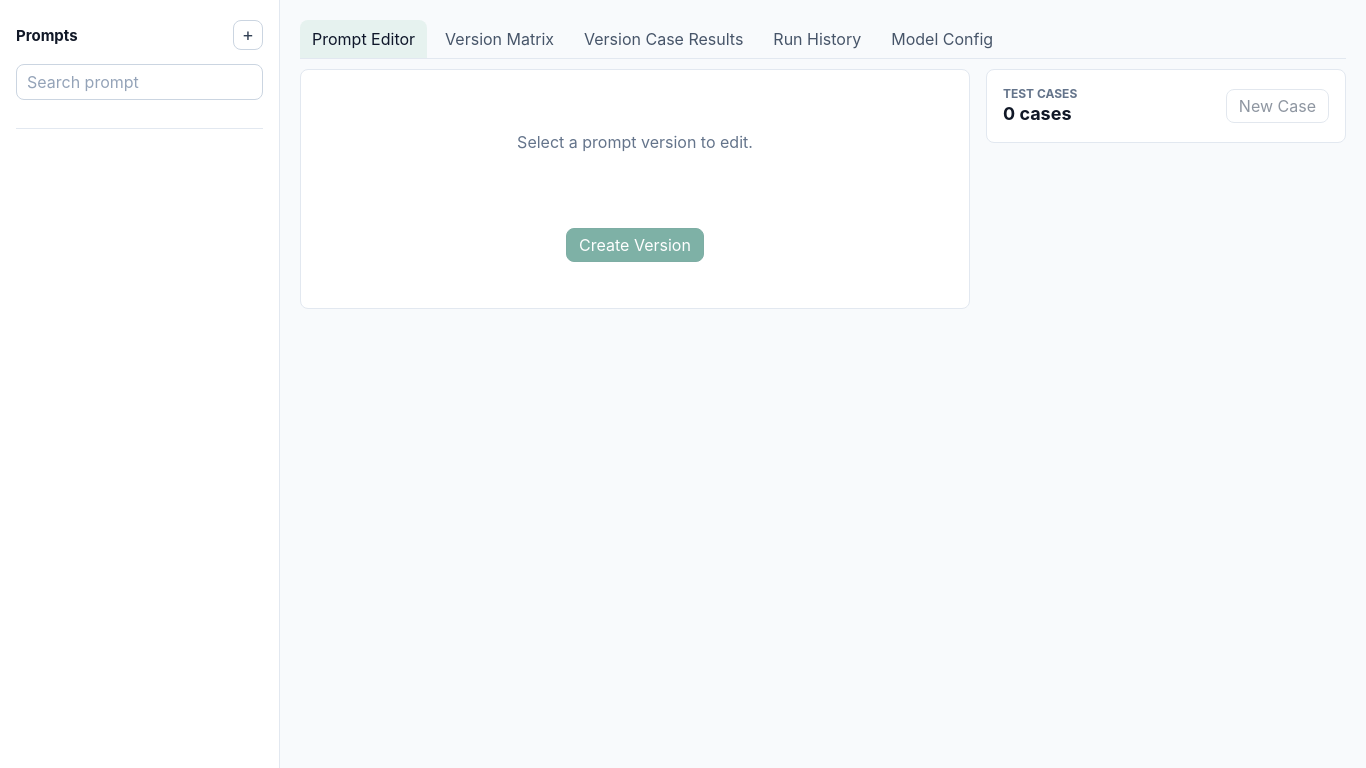
Test case: App prompt creation › creates a prompt from the in-app form
Click the button named "New prompt". click: (248, 35)
box: x1=233 y1=20 x2=263 y2=50
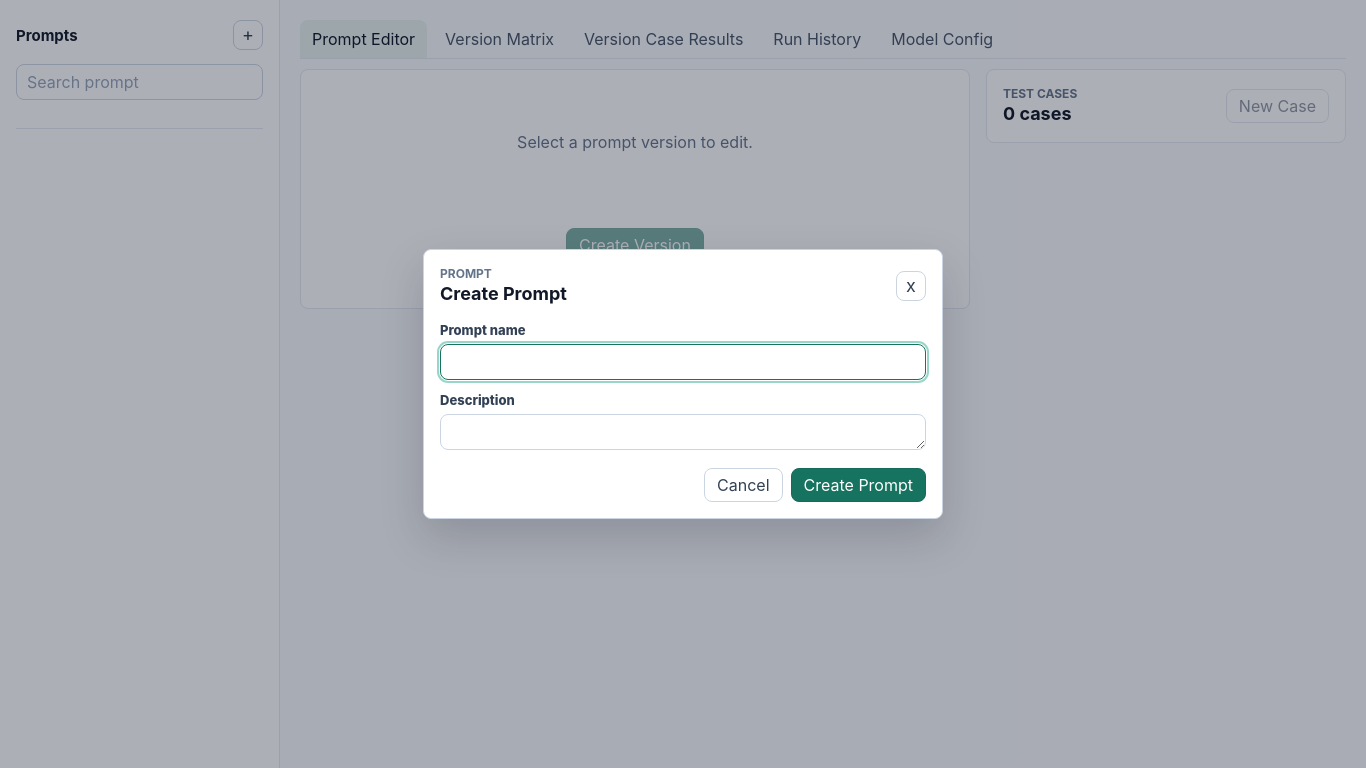
Type "Recall Prompt" into the field labelled "Prompt name". click: (683, 362)
box: x1=440 y1=344 x2=926 y2=380
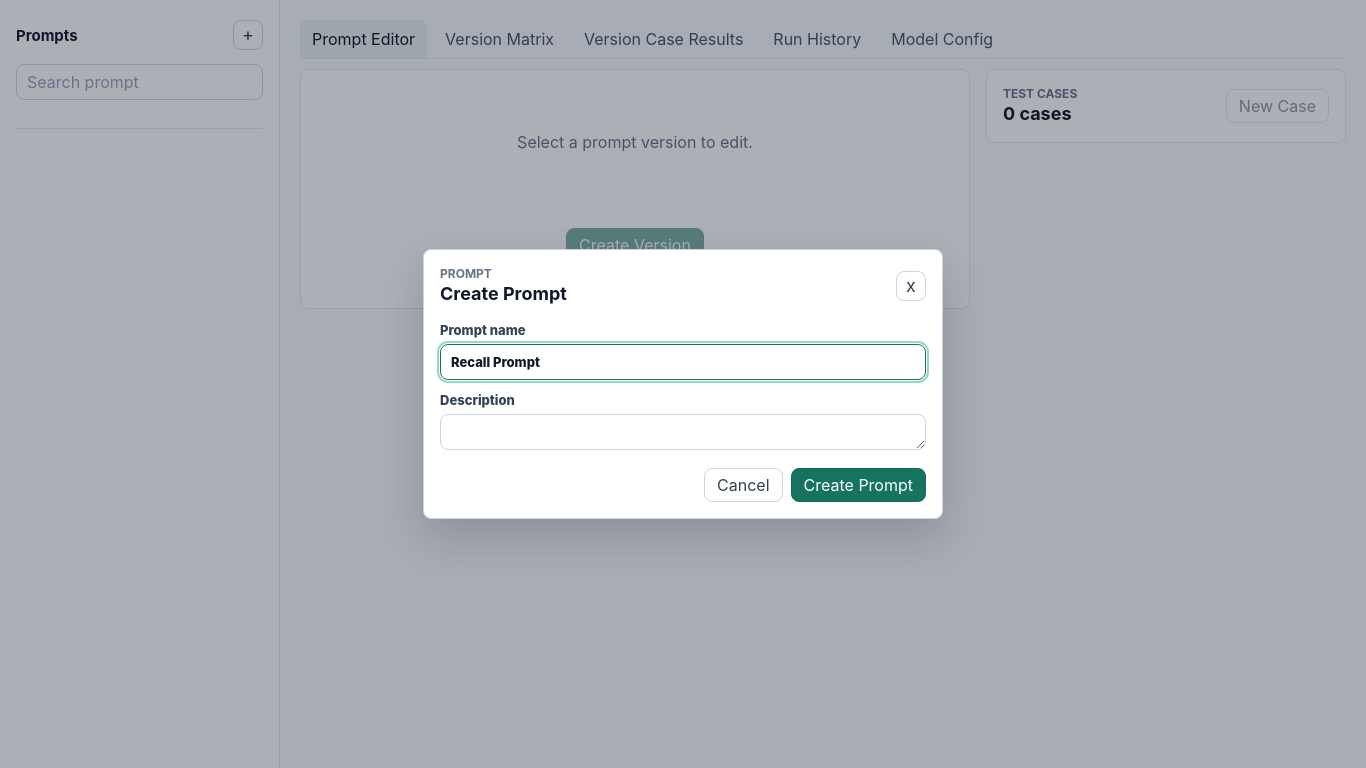
Type "Recall useful memories" into the text box labelled "Description". click: (683, 432)
box: x1=440 y1=414 x2=926 y2=450
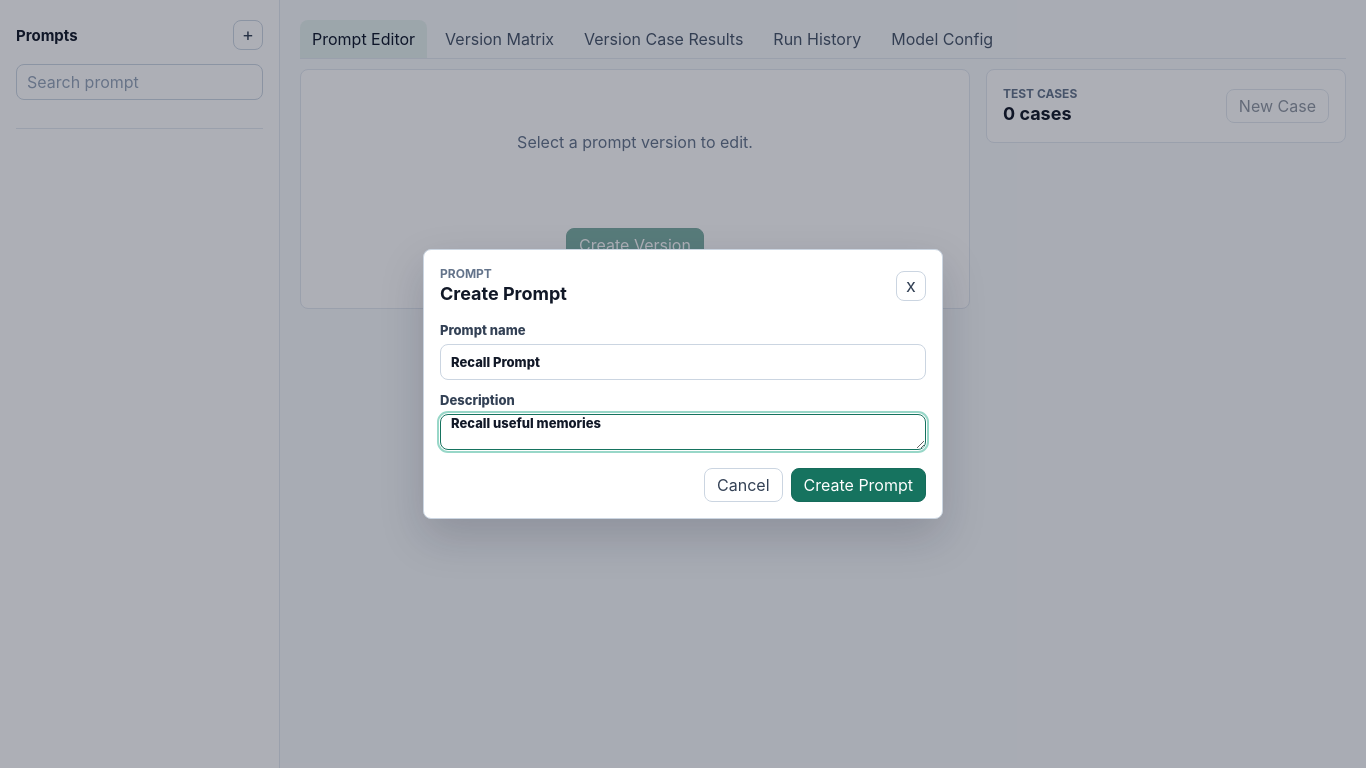
Click the button "Create Prompt". click: (858, 485)
box: x1=791 y1=468 x2=926 y2=502
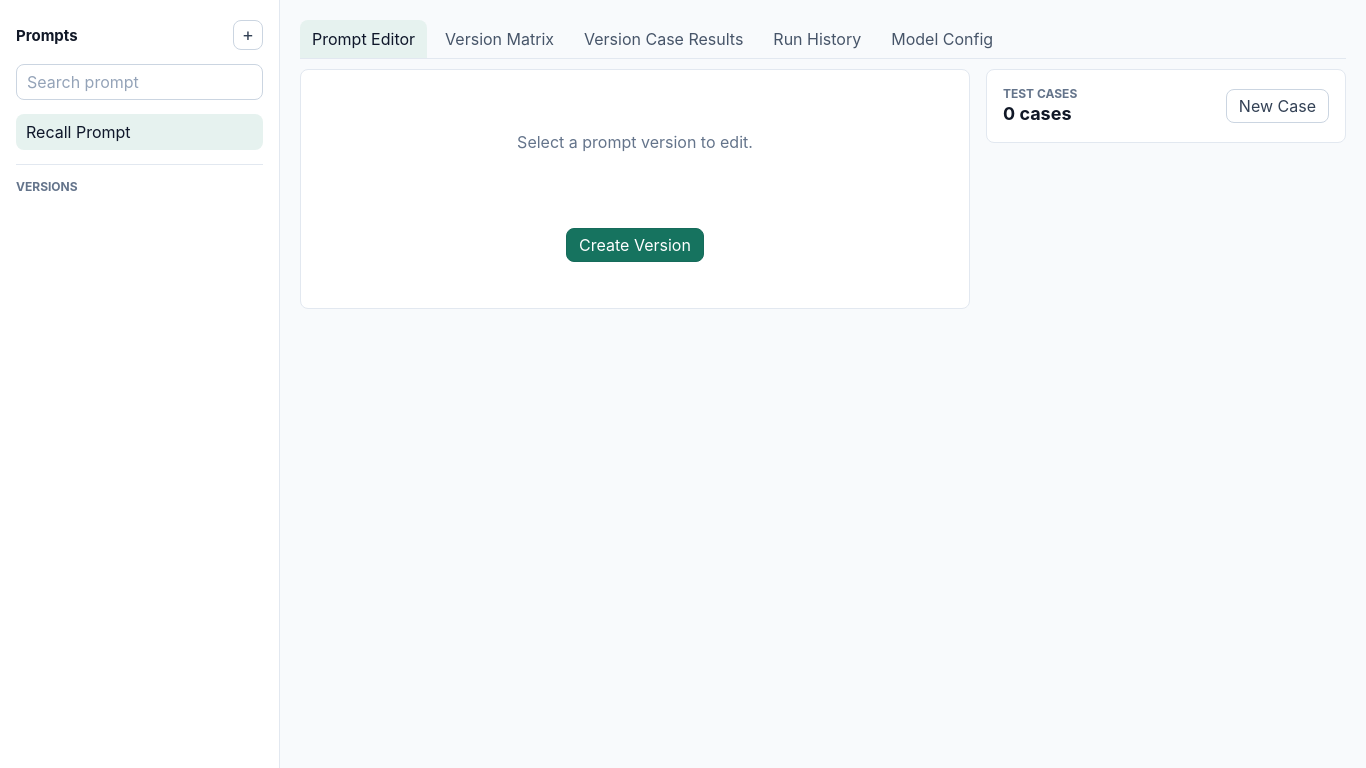
Check: the button "Recall Prompt" is shown, box x1=16 y1=114 x2=263 y2=150
